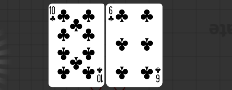10C: (50, 6, 57, 23)
5C: (154, 66, 162, 84)
